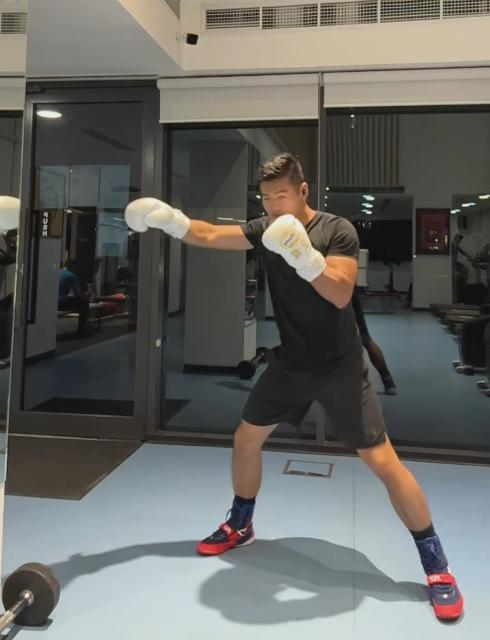punch: (114, 148, 466, 626)
